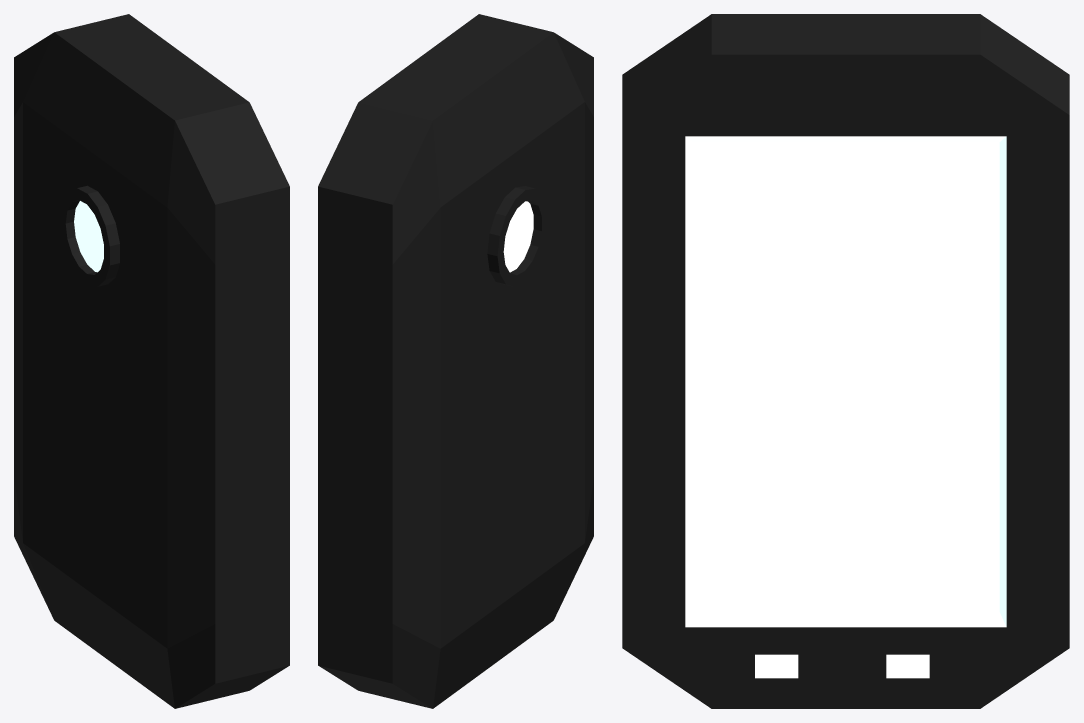
The model's file is S_Smartphone.fbx.
3 renders of one model, left to right at view 1: azimuth 30°, elevation 25°; view 2: azimuth 150°, elevation 25°; view 3: azimuth 270°, elevation 25°, orthographic. The views are drawn at different scales.
Parts seen in each view (by area): view 1: S_Smartphone; view 2: S_Smartphone; view 3: S_Smartphone.
Boxes of the visible parts, <box> form: S_Smartphone: <box>14,14,289,708</box>; S_Smartphone: <box>318,14,593,708</box>; S_Smartphone: <box>622,14,1069,708</box>.
Bounding box in the file's own units: 5.63 × 30 × 18.6.
